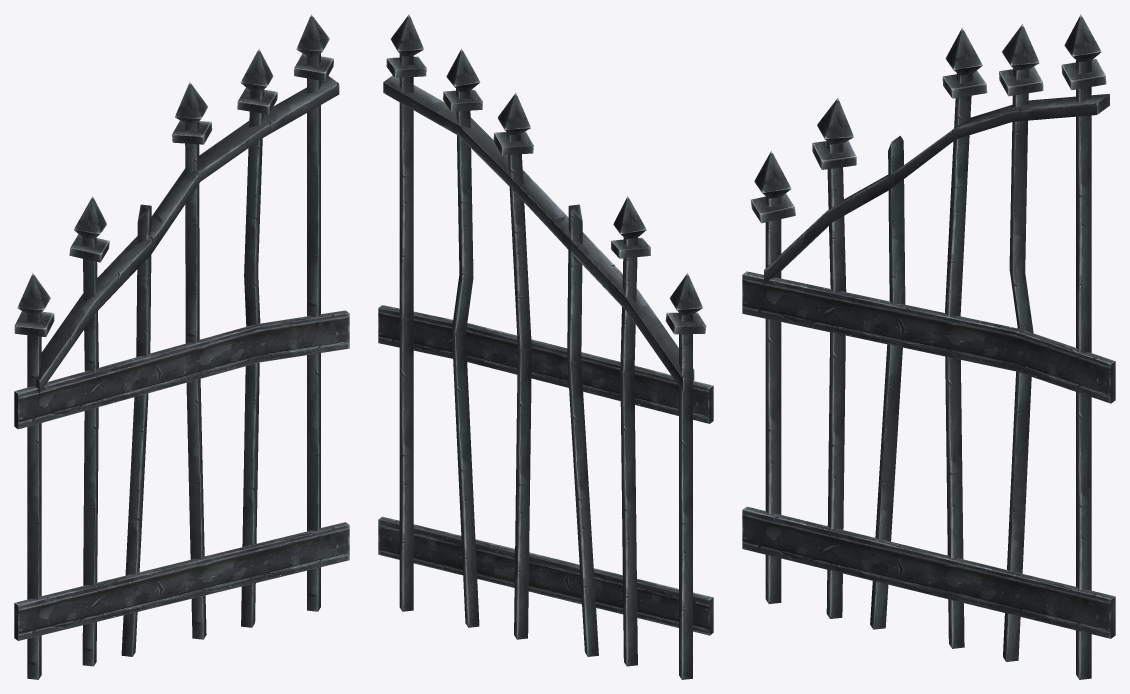
File: Z_tiemen001.fbx
The picture shows the model from 3 angles, left to right: view 1: azimuth 30°, elevation 25°; view 2: azimuth 150°, elevation 25°; view 3: azimuth 330°, elevation 25°; orthographic projection. The views are drawn at different scales.
Parts seen in each view (by area): view 1: Z_tiemen001; view 2: Z_tiemen001; view 3: Z_tiemen001.
Part boxes in pixels (x1=…): Z_tiemen001: x1=14, y1=14, x2=349, y2=679; Z_tiemen001: x1=378, y1=14, x2=713, y2=679; Z_tiemen001: x1=742, y1=14, x2=1115, y2=679.
Size of the model in its own units: 306 by 525 by 48.74.
